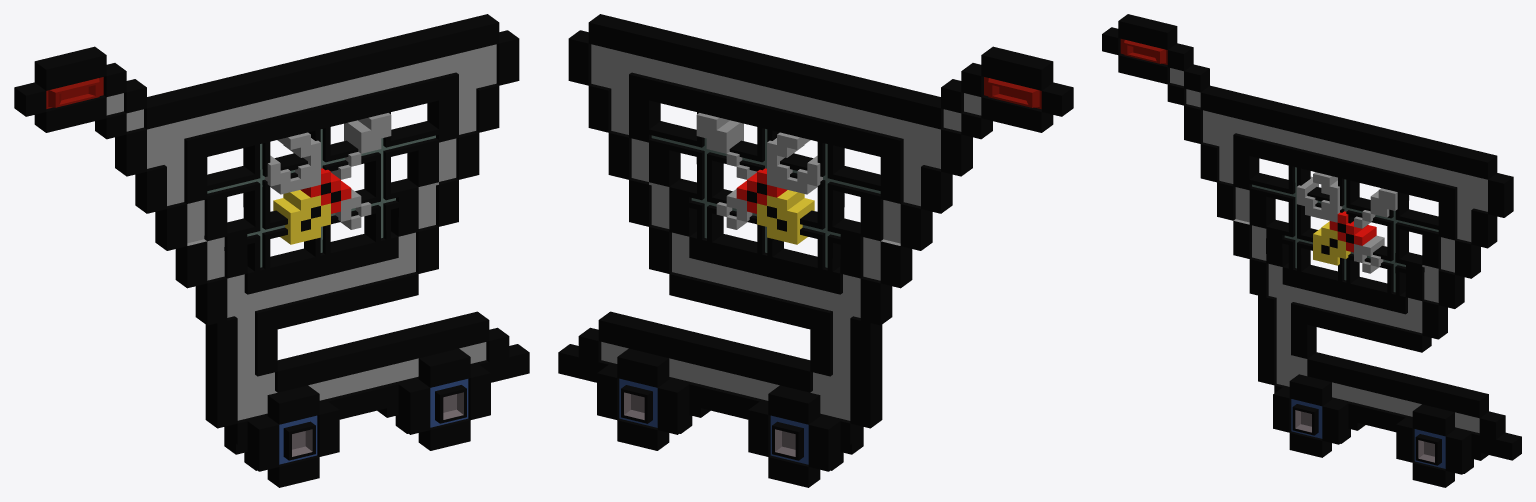
Rendered from KORZINKA.fbx.
The picture shows the model from 3 angles, left to right: view 1: azimuth 30°, elevation 25°; view 2: azimuth 150°, elevation 25°; view 3: azimuth 330°, elevation 25°; orthographic projection. The views are drawn at different scales.
Parts seen in each view (by area): view 1: Cube.041; view 2: Cube.041; view 3: Cube.041.
Part boxes in pixels (x1,y1,x2,y2): Cube.041: (14,14,529,487); Cube.041: (558,14,1073,487); Cube.041: (1102,14,1521,487).
Bounding box in the file's own units: 5000 × 4400 × 704.
